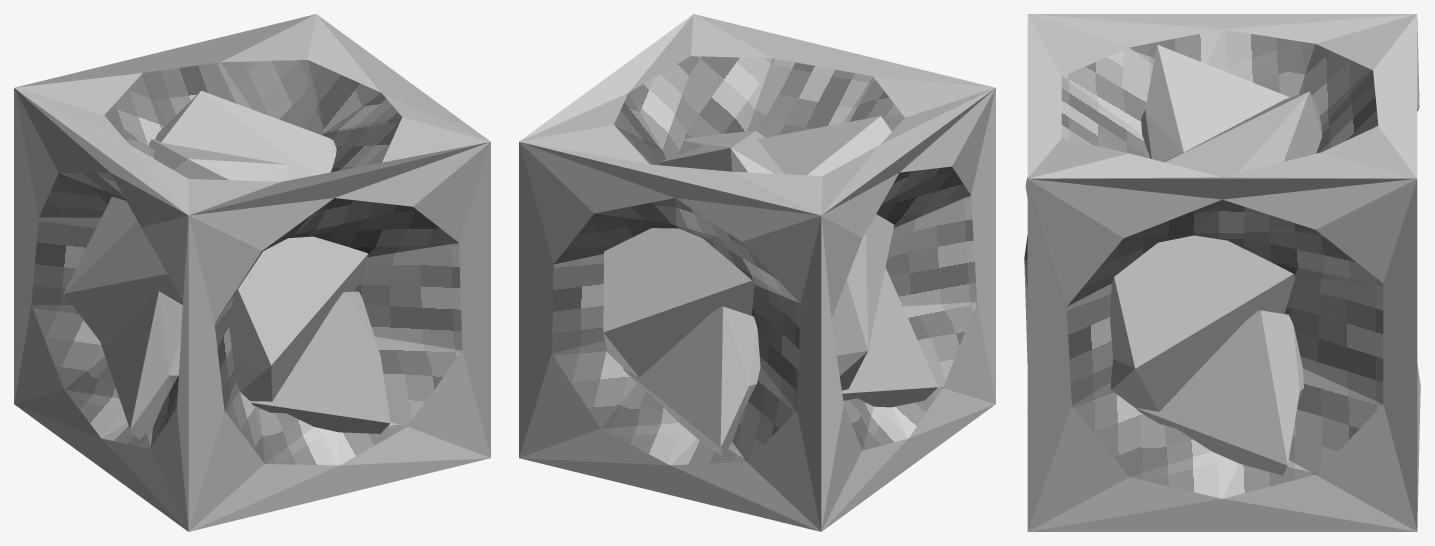
File: ore_transform2.obj
The picture shows the model from 3 angles, left to right: view 1: azimuth 30°, elevation 25°; view 2: azimuth 150°, elevation 25°; view 3: azimuth 270°, elevation 25°; orthographic projection. The views are drawn at different scales.
Visible parts, largest first — view 1: mesh; view 2: mesh; view 3: mesh.
Part boxes in pixels (x1,y1,x2,y2): mesh: (14,14,490,531); mesh: (519,14,995,531); mesh: (1024,14,1420,531).
Size of the model in its own units: 1.02 by 1.02 by 1.02.
